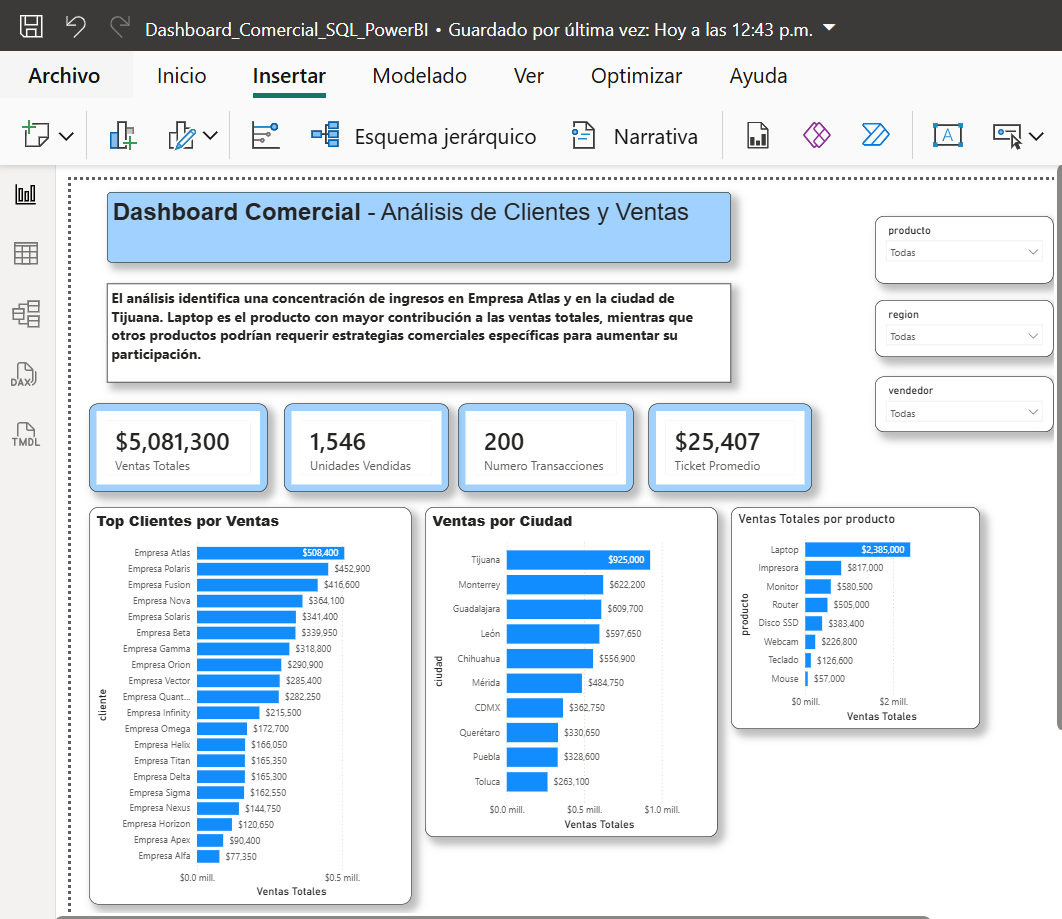

The page's visual inventory and layout, read from the dashboard file:
{"tool":"powerbi","page":{"name":"Página 1","canvas":[1500,1300],"ordinal":0},"visuals":[{"type":"cardVisual","fields":{"Data":["clientes.Ventas Totales"]},"box":[24,298,238,118],"z":0},{"type":"cardVisual","fields":{"Data":["clientes.Numero Transacciones"]},"box":[516,298,234,118],"z":1000},{"type":"cardVisual","fields":{"Data":["clientes.Ticket Promedio"]},"box":[770,298,218,118],"z":2000},{"type":"cardVisual","fields":{"Data":["clientes.Unidades Vendidas"]},"box":[284,298,220,118],"z":3000},{"type":"clusteredBarChart","title":"Top Clientes por Ventas","fields":{"Category":["clientes.cliente"],"Y":["clientes.Ventas Totales"]},"box":[24,436,430,530],"z":3001},{"type":"clusteredBarChart","title":"Ventas por Ciudad","fields":{"Category":["clientes.ciudad"],"Y":["clientes.Ventas Totales"]},"box":[472,436,390,440],"z":3002},{"type":"clusteredBarChart","fields":{"Category":["ventas.producto"],"Y":["clientes.Ventas Totales"]},"box":[880,436,332,296],"z":3003},{"type":"slicer","fields":{"Values":["ventas.producto"]},"box":[1072,48,238,90],"z":3004},{"type":"slicer","fields":{"Values":["ventas.region"]},"box":[1072,160,238,76],"z":3005},{"type":"slicer","fields":{"Values":["ventas.vendedor"]},"box":[1072,262,238,74],"z":3006},{"type":"textbox","box":[214,18,832,94],"z":3007},{"type":"textbox","box":[214,130,832,132],"z":3008}]}

Visuals, with their boxes on the page's 1500x1300 design canvas (x1, y1, x2, y2). These are canvas units, not pixel positions in the 1062x919 screenshot, which may show the page scaled, cropped or inside an application window:
cardVisual - clientes.Ventas Totales: [x1=24, y1=298, x2=262, y2=416]
cardVisual - clientes.Numero Transacciones: [x1=516, y1=298, x2=750, y2=416]
cardVisual - clientes.Ticket Promedio: [x1=770, y1=298, x2=988, y2=416]
cardVisual - clientes.Unidades Vendidas: [x1=284, y1=298, x2=504, y2=416]
"Top Clientes por Ventas" clusteredBarChart: [x1=24, y1=436, x2=454, y2=966]
"Ventas por Ciudad" clusteredBarChart: [x1=472, y1=436, x2=862, y2=876]
clusteredBarChart - ventas.producto x clientes.Ventas Totales: [x1=880, y1=436, x2=1212, y2=732]
slicer - ventas.producto: [x1=1072, y1=48, x2=1310, y2=138]
slicer - ventas.region: [x1=1072, y1=160, x2=1310, y2=236]
slicer - ventas.vendedor: [x1=1072, y1=262, x2=1310, y2=336]
textbox: [x1=214, y1=18, x2=1046, y2=112]
textbox: [x1=214, y1=130, x2=1046, y2=262]
